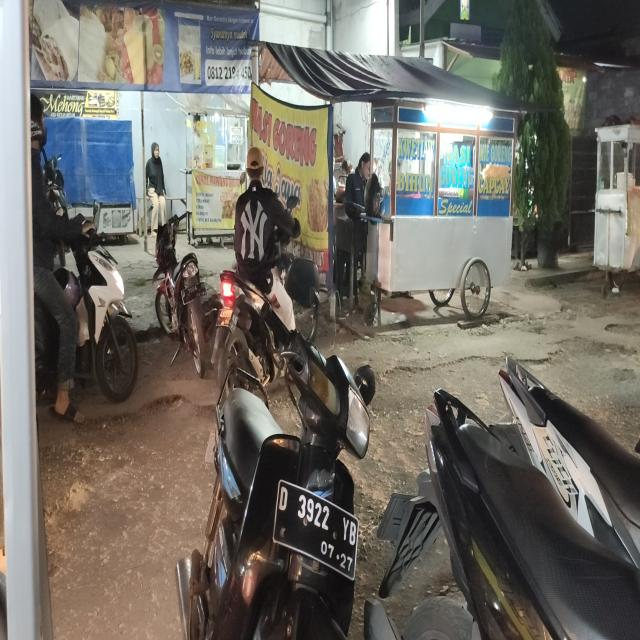helmet: (31, 88, 48, 157)
no-helmet: (245, 144, 266, 183)
